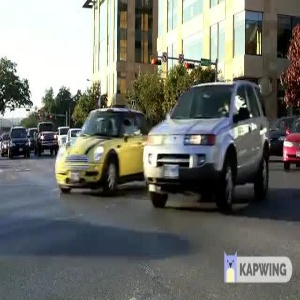car: (49, 108, 151, 197)
suv: (140, 78, 270, 215)
truck: (28, 118, 64, 158)
van: (8, 122, 32, 163)
